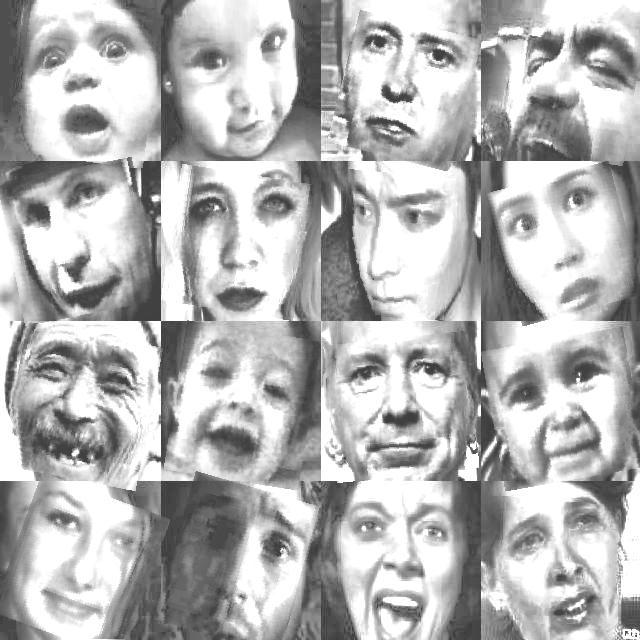angry: (3, 163, 152, 321), (332, 500, 466, 640), (339, 171, 453, 318)
fear: (9, 0, 159, 164), (495, 168, 637, 320)
happy: (1, 482, 159, 640), (7, 328, 157, 486), (486, 332, 640, 485), (170, 325, 316, 486), (486, 13, 640, 161), (327, 334, 476, 480), (174, 0, 305, 155)
neutral: (335, 17, 475, 165)
sad: (162, 478, 312, 640), (166, 169, 310, 317), (486, 497, 619, 640)
